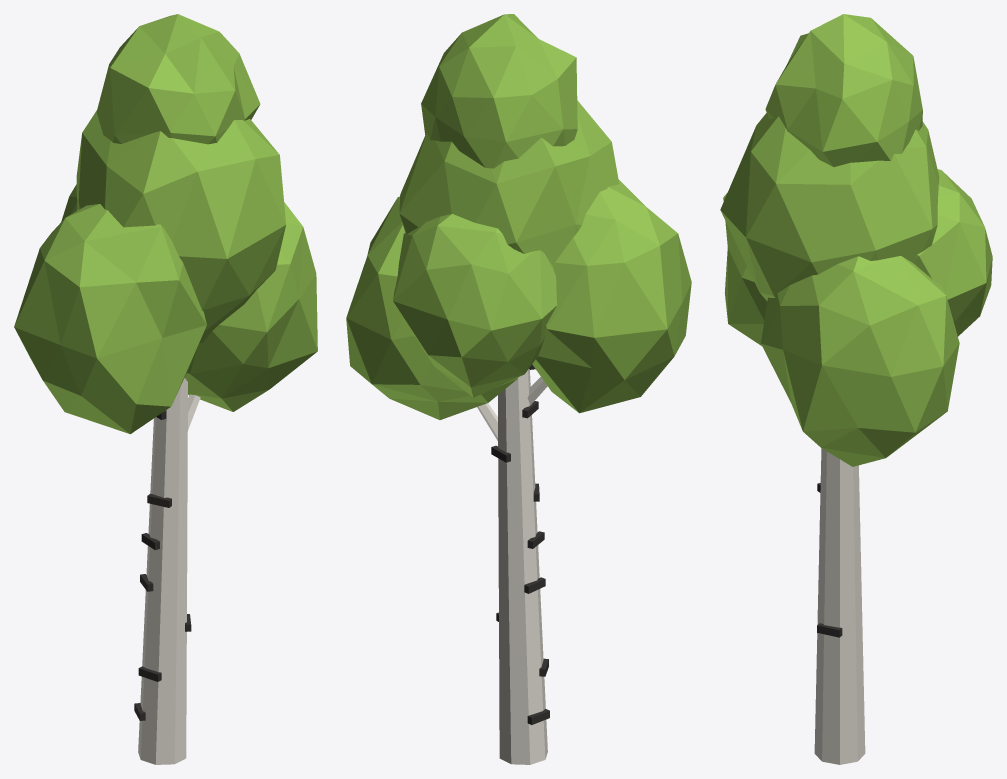
Rendered from BirchTree.fbx.
3 renders of one model, left to right at view 1: azimuth 30°, elevation 25°; view 2: azimuth 150°, elevation 25°; view 3: azimuth 270°, elevation 25°, orthographic.
Visible parts, largest first — view 1: Leaves, Trunk, Marks; view 2: Leaves, Trunk, Marks; view 3: Leaves, Trunk.
Boxes of the visible parts, <box> form: Leaves: <box>14,14,317,434</box>; Trunk: <box>138,378,200,764</box>; Marks: <box>134,411,191,720</box>; Leaves: <box>346,14,691,419</box>; Trunk: <box>477,369,547,764</box>; Marks: <box>491,364,549,724</box>; Leaves: <box>720,14,992,466</box>; Trunk: <box>814,448,865,764</box>.
Bounding box in the file's own units: 6.74 × 16.29 × 5.37.
